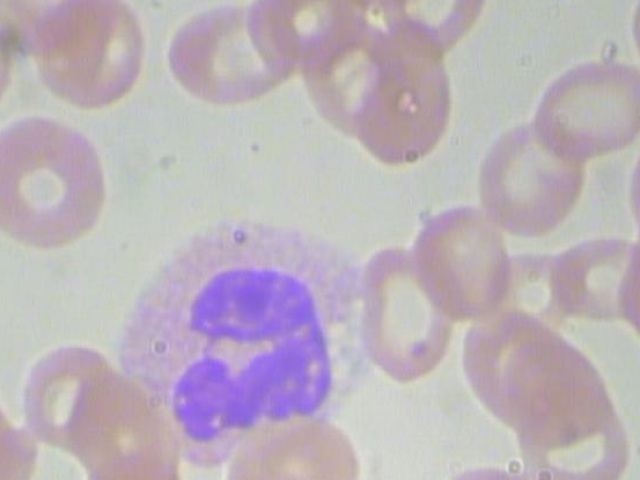RBC: (0, 110, 127, 265), (162, 0, 311, 111), (407, 198, 520, 321), (473, 115, 586, 237), (524, 53, 640, 164)
WBC: (107, 209, 402, 480)
